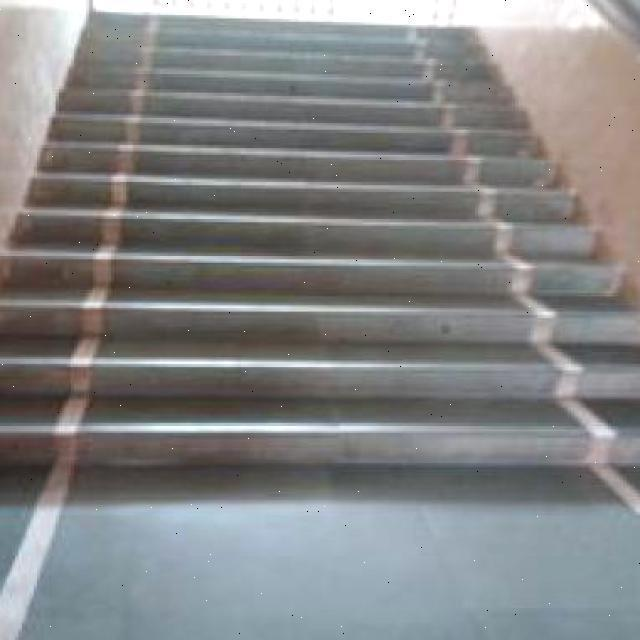stair: (0, 200, 584, 507)
